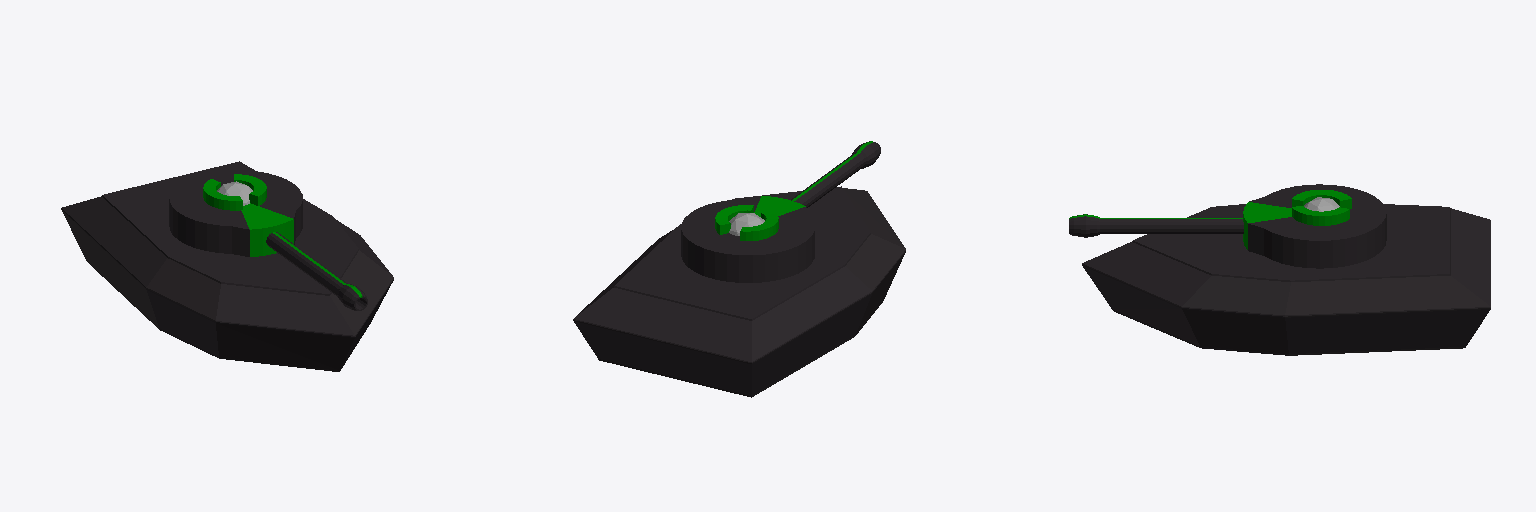
File: ttank.obj
3 views of the same model, side by side, from view 1: azimuth 30°, elevation 25°; view 2: azimuth 150°, elevation 25°; view 3: azimuth 270°, elevation 25° (orthographic).
Visible parts, largest first — view 1: body_Cube.002, turret_Cylinder, barrel_Cylinder.002, capacitor_Cylinder.003; view 2: body_Cube.002, turret_Cylinder, barrel_Cylinder.002, capacitor_Cylinder.003; view 3: body_Cube.002, turret_Cylinder, barrel_Cylinder.002, capacitor_Cylinder.003.
Boxes of the visible parts, x1,y1,x2,y2 form: body_Cube.002: [61, 161, 393, 371]; turret_Cylinder: [169, 170, 302, 256]; barrel_Cylinder.002: [266, 232, 367, 310]; capacitor_Cylinder.003: [203, 174, 266, 210]; body_Cube.002: [573, 186, 905, 397]; turret_Cylinder: [681, 196, 814, 282]; barrel_Cylinder.002: [791, 141, 880, 207]; capacitor_Cylinder.003: [715, 205, 778, 240]; body_Cube.002: [1082, 204, 1490, 355]; turret_Cylinder: [1243, 184, 1386, 268]; barrel_Cylinder.002: [1069, 214, 1243, 237]; capacitor_Cylinder.003: [1292, 190, 1351, 225].
Bounding box in the file's own units: 1.97 × 1 × 3.36.